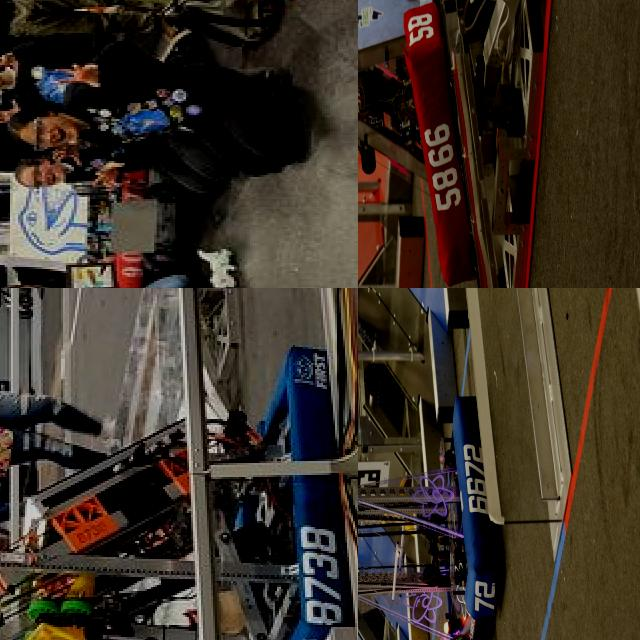FRC-Robots: (0, 329, 344, 640), (358, 367, 520, 640), (358, 0, 484, 288), (0, 189, 138, 283)
